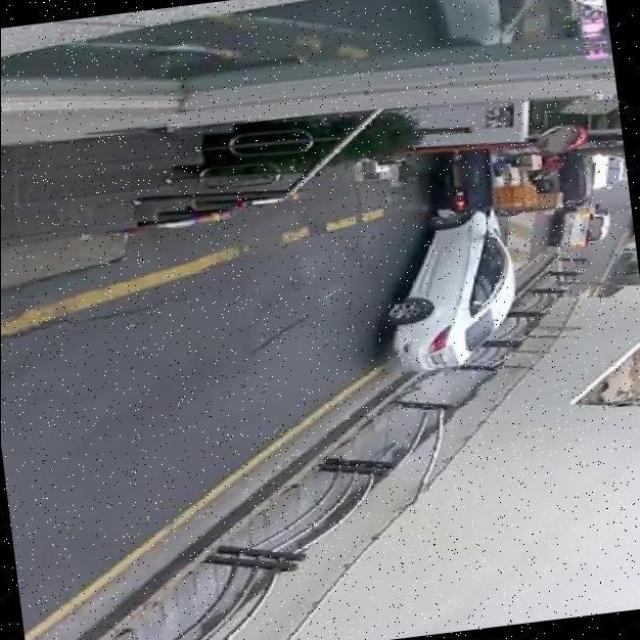accident: (405, 153, 535, 296)
